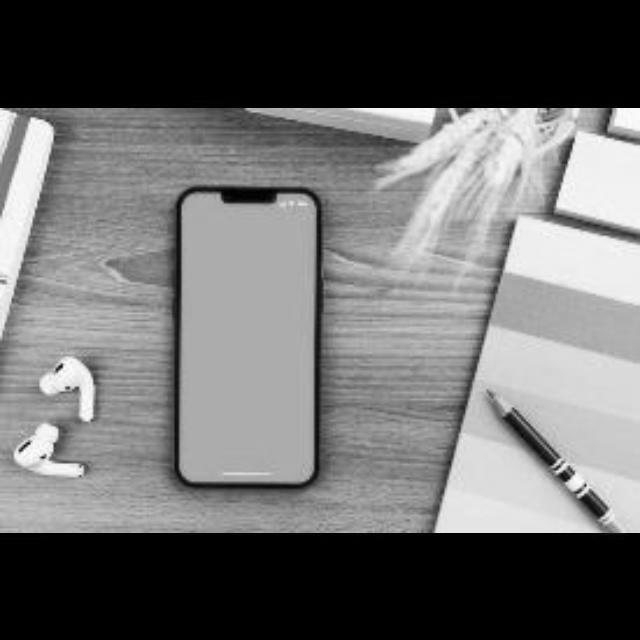fake: (174, 189, 322, 487)
